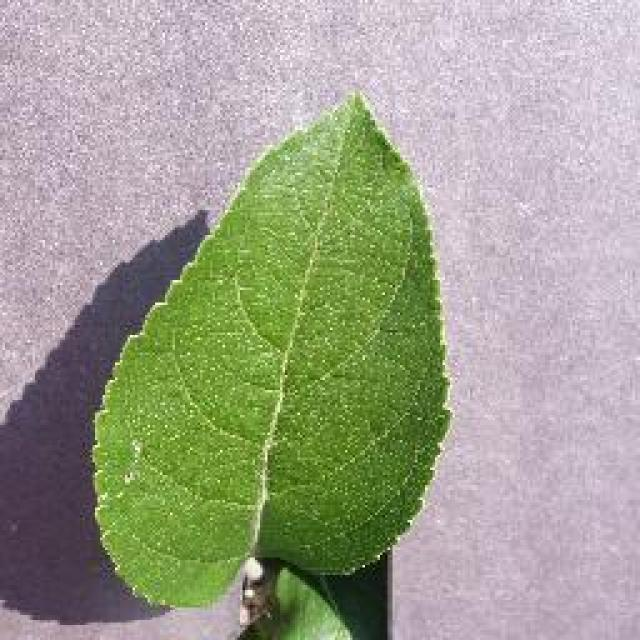apple healthy: (87, 88, 455, 620)
